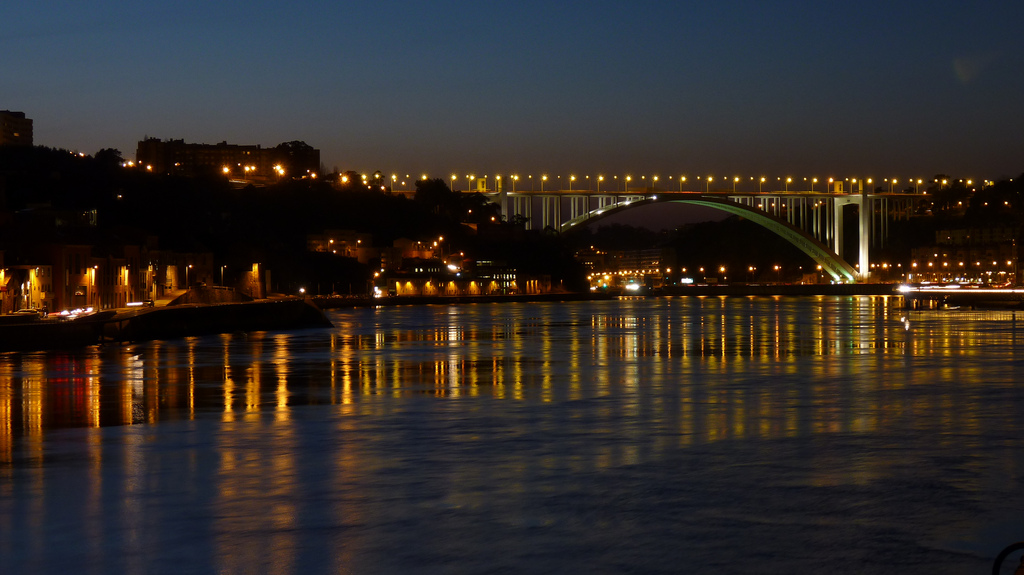arrabida: (444, 178, 932, 286)
